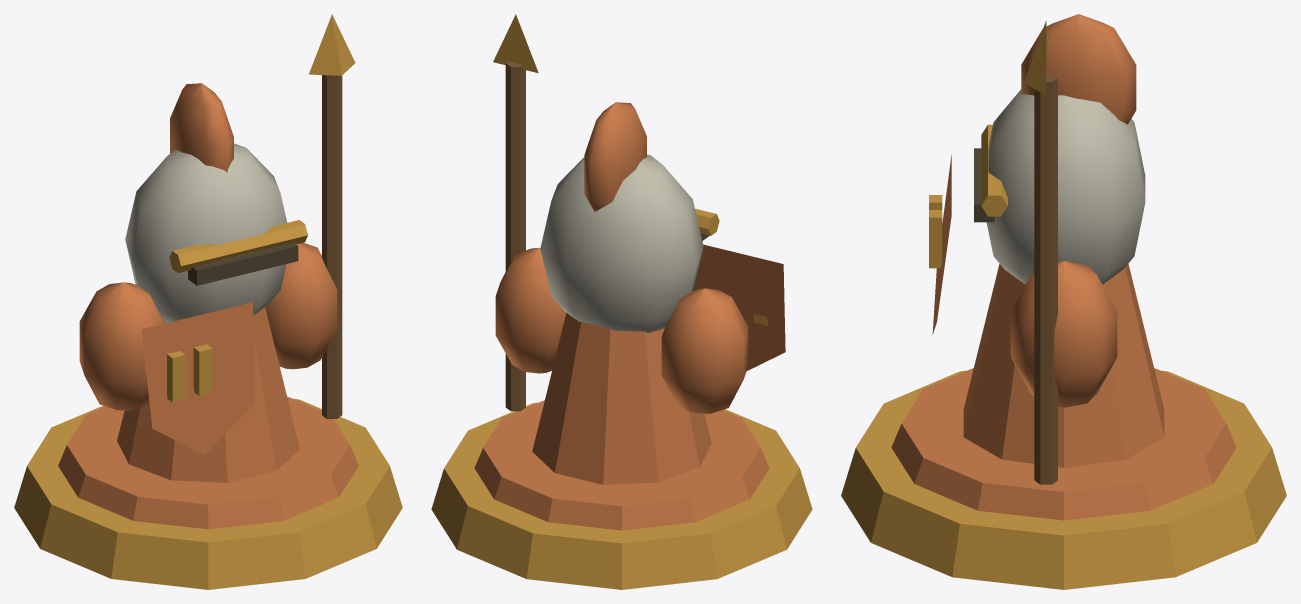
File: knight-2-1.glb
3 views of the same model, side by side, from view 1: azimuth 30°, elevation 25°; view 2: azimuth 150°, elevation 25°; view 3: azimuth 270°, elevation 25° (orthographic). The views are drawn at different scales.
Parts seen in each view (by area): view 1: knight-2-1.001, knight-2-1, knight-2-1.002, knight-2-1.004, knight-2-1.003; view 2: knight-2-1.001, knight-2-1, knight-2-1.002, knight-2-1.004; view 3: knight-2-1.001, knight-2-1, knight-2-1.002, knight-2-1.004, knight-2-1.003.
Boxes of the visible parts, x1,y1,x2,y2 form: knight-2-1.001: [58, 83, 358, 529]; knight-2-1: [14, 14, 402, 589]; knight-2-1.002: [125, 143, 287, 323]; knight-2-1.004: [322, 75, 342, 418]; knight-2-1.003: [188, 242, 298, 285]; knight-2-1.001: [474, 102, 785, 530]; knight-2-1: [431, 14, 812, 589]; knight-2-1.002: [540, 154, 703, 333]; knight-2-1.004: [505, 61, 525, 411]; knight-2-1.001: [891, 14, 1236, 520]; knight-2-1: [841, 20, 1286, 589]; knight-2-1.002: [986, 89, 1145, 284]; knight-2-1.004: [1034, 73, 1057, 484]; knight-2-1.003: [974, 148, 994, 222].
Size of the model in its own units: 0.302 by 0.404 by 0.302.
